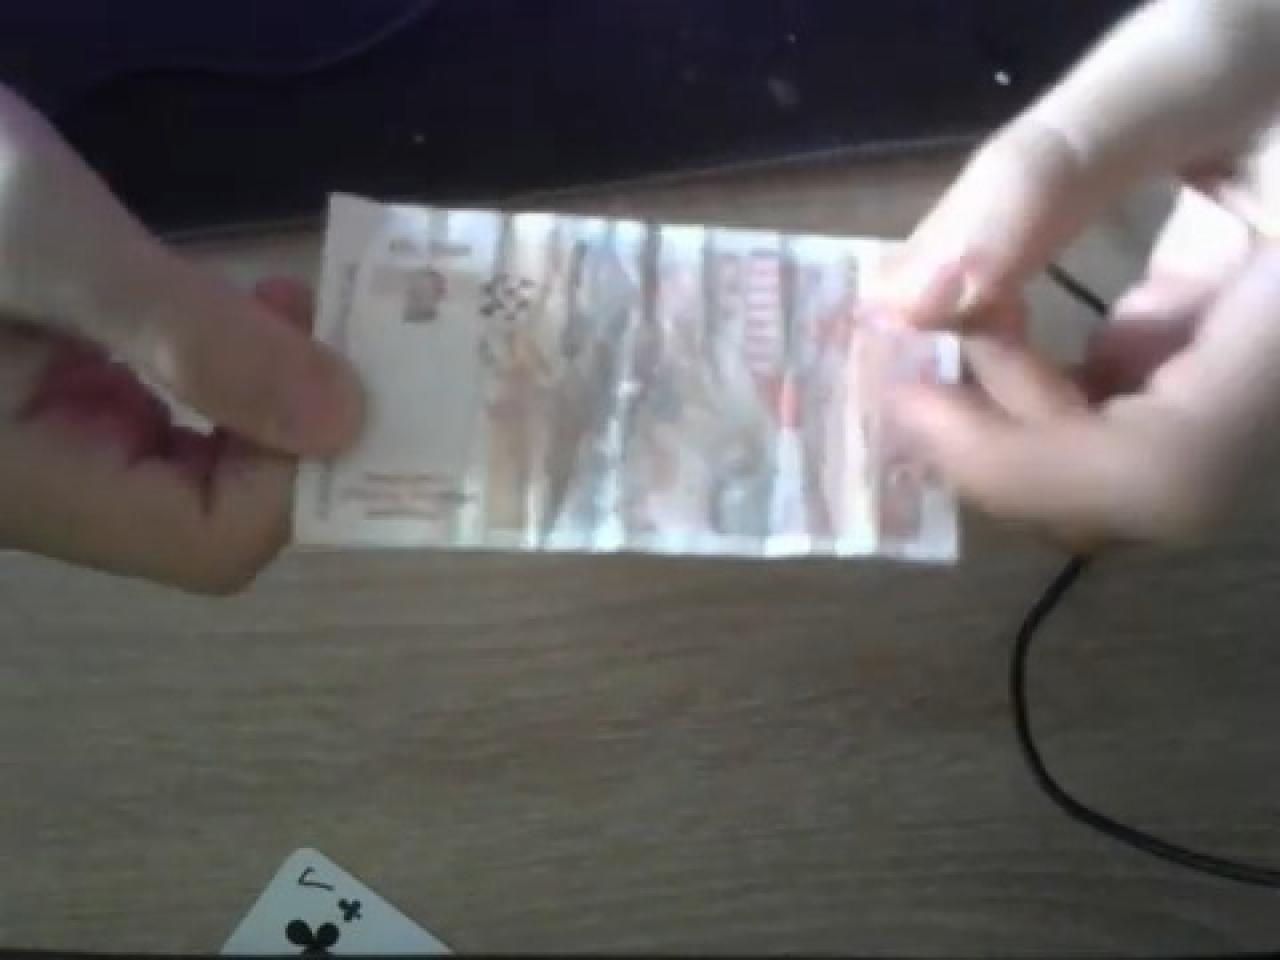5leva: (400, 216, 875, 558)
